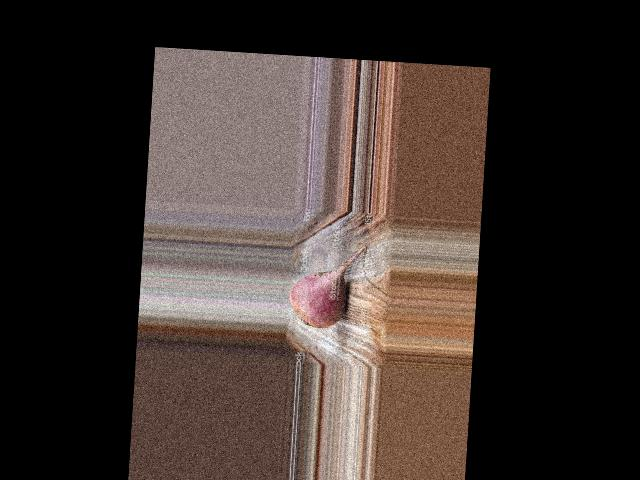beet: (287, 240, 366, 330)
